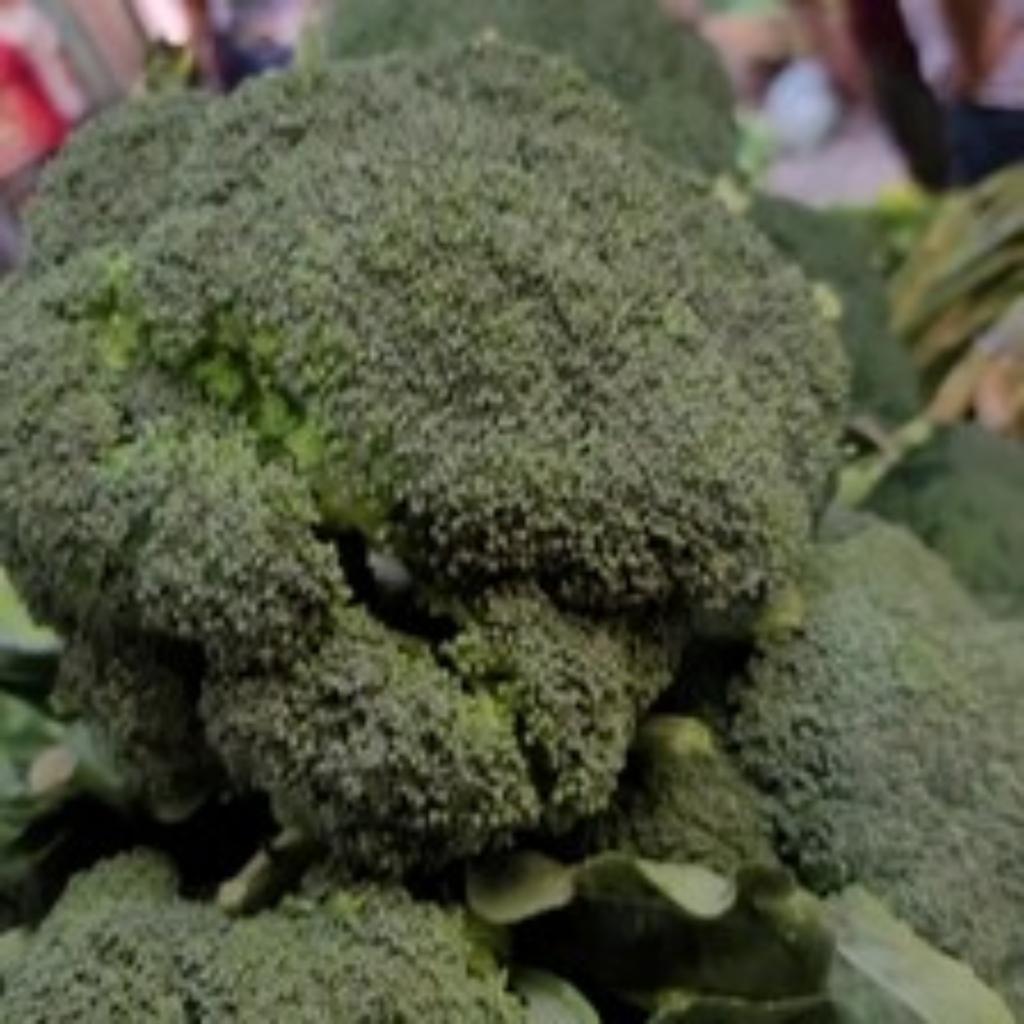Broccoli: (0, 40, 844, 877), (0, 40, 844, 873), (732, 516, 1024, 1023), (732, 518, 1024, 1023), (0, 850, 522, 1024)
